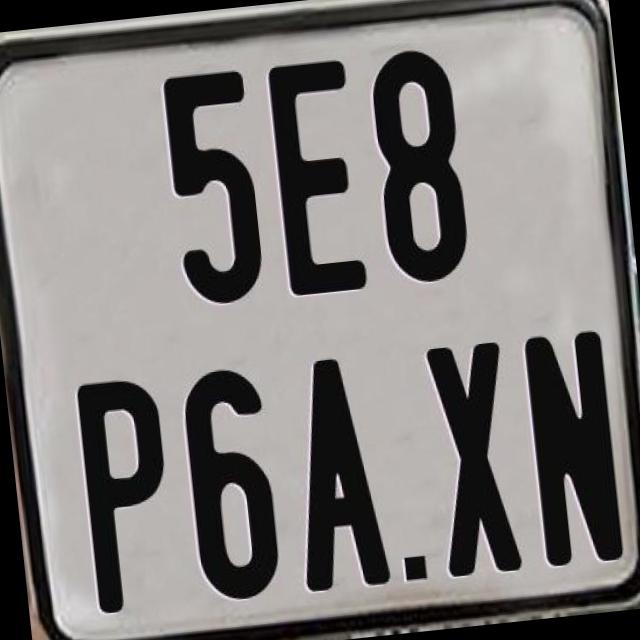5: (160, 67, 270, 312)
6: (180, 364, 290, 608)
8: (366, 44, 474, 290)
A: (280, 352, 393, 588)
E: (264, 54, 370, 298)
N: (522, 328, 632, 574)
P: (74, 374, 180, 616)
X: (425, 342, 525, 582)
